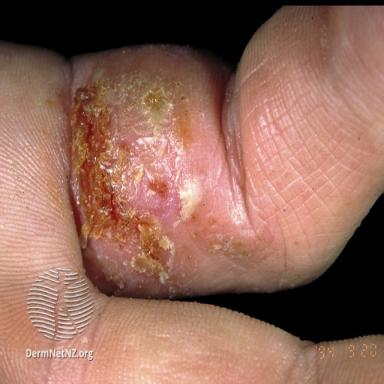Impetigo: (71, 70, 205, 294)
